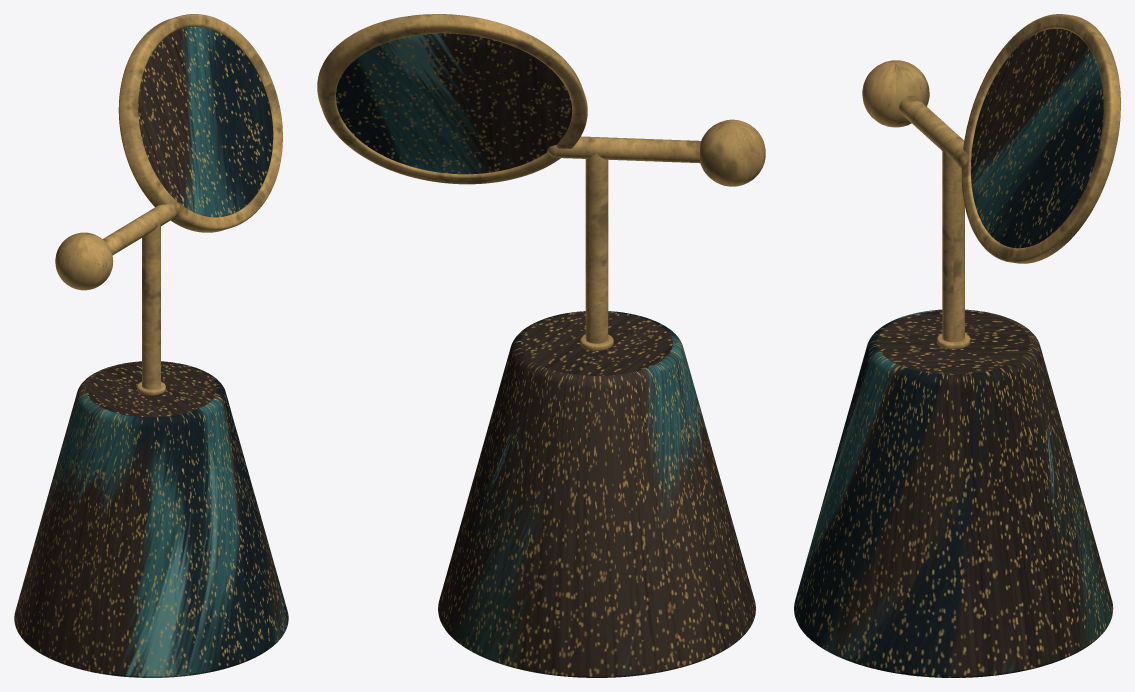
File: bishop-black-hd.glb
The picture shows the model from 3 angles, left to right: view 1: azimuth 30°, elevation 25°; view 2: azimuth 150°, elevation 25°; view 3: azimuth 270°, elevation 25°; orthographic projection. The views are drawn at different scales.
Parts seen in each view (by area): view 1: Telo, Vlozka_cocky, Ram_cocky, Sloupek, Kulicka, Rameno; view 2: Telo, Vlozka_cocky, Ram_cocky, Sloupek, Kulicka, Rameno; view 3: Telo, Vlozka_cocky, Ram_cocky, Sloupek, Kulicka, Rameno.
Boxes of the visible parts, x1,y1,x2,y2 form: Telo: (14,361,288,677); Vlozka_cocky: (138,26,273,217); Ram_cocky: (118,14,282,232); Sloupek: (142,211,160,389); Kulicka: (55,232,113,290); Rameno: (103,201,180,255); Telo: (438,311,755,677); Vlozka_cocky: (336,33,572,174); Ram_cocky: (317,14,587,184); Sloupek: (585,137,608,343); Kulicka: (700,119,765,186); Rameno: (547,136,700,163); Telo: (794,309,1113,677); Vlozka_cocky: (971,28,1103,248); Ram_cocky: (961,14,1120,263); Sloupek: (942,135,964,342); Kulicka: (862,60,929,127); Rameno: (899,95,971,167).
Bounding box in the file's own units: 0.8067 × 1.38 × 0.6513.
2 materials, 2 textured.
